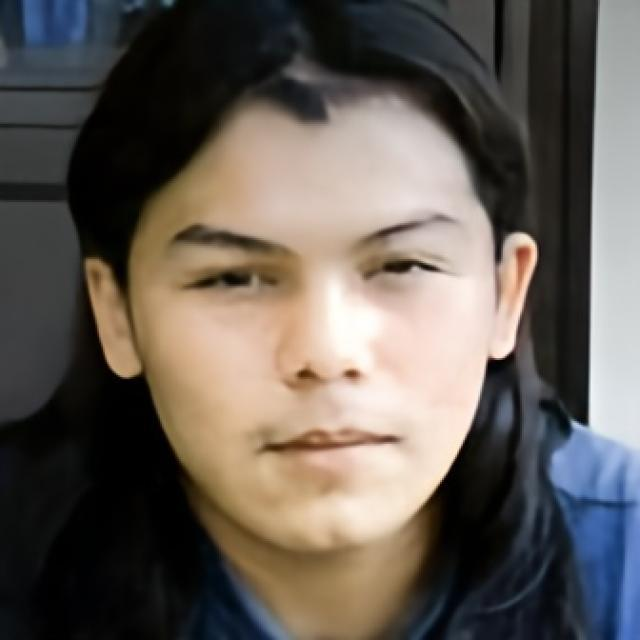neutral: (128, 102, 494, 552)
